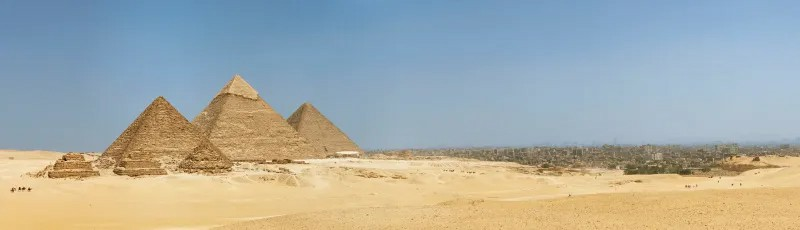Pyramid: (194, 74, 320, 158), (100, 98, 204, 165), (286, 104, 364, 157), (180, 139, 232, 173), (113, 146, 169, 174), (45, 151, 98, 175)
